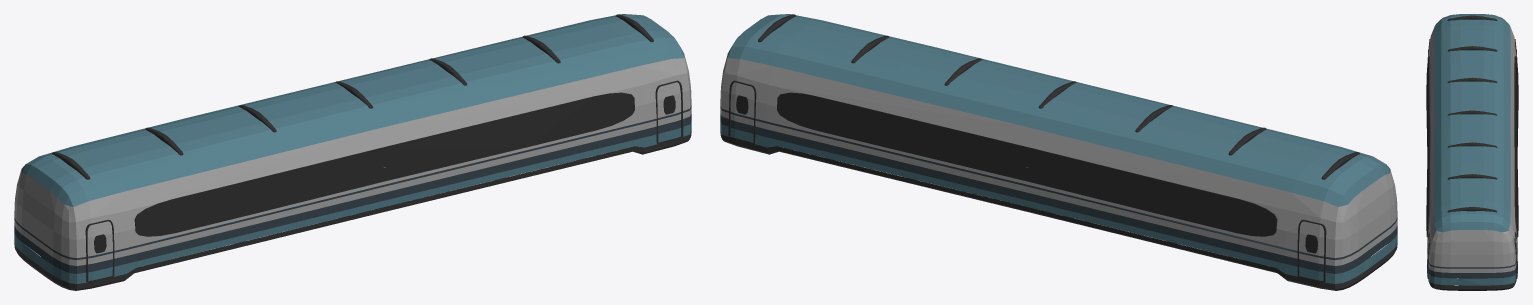
File: high-speed-wagon.glb
3 renders of one model, left to right at view 1: azimuth 30°, elevation 25°; view 2: azimuth 150°, elevation 25°; view 3: azimuth 270°, elevation 25°, orthographic. The views are drawn at different scales.
Visible parts, largest first — view 1: HighspeedTrain_Wagon; view 2: HighspeedTrain_Wagon; view 3: HighspeedTrain_Wagon.
Part boxes in pixels (<box>): HighspeedTrain_Wagon: <box>14,14,691,290</box>; HighspeedTrain_Wagon: <box>720,14,1397,290</box>; HighspeedTrain_Wagon: <box>1426,14,1518,290</box>.
Bounding box in the file's own units: 11.18 × 1.9 × 2.03.
1 material, 1 textured.
